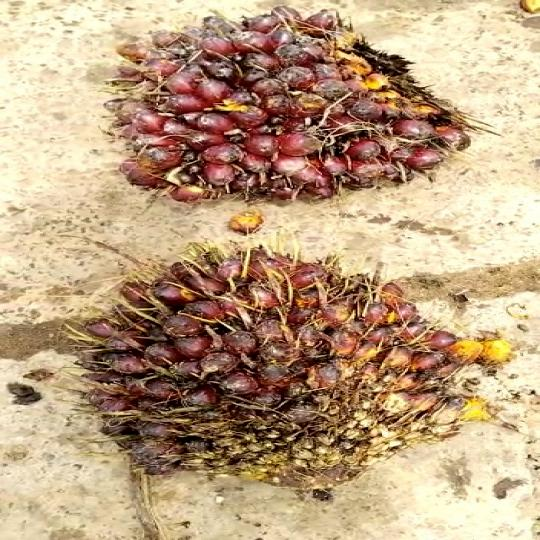kurang masak: (56, 239, 516, 493), (96, 16, 506, 208)
